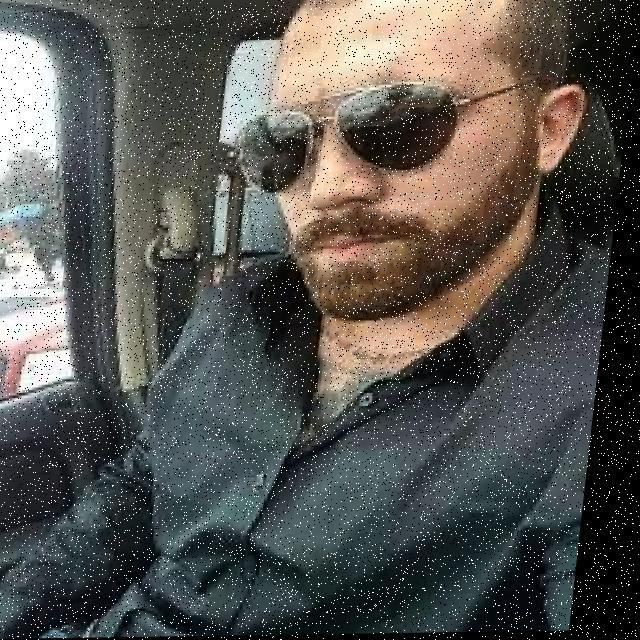noSeatbelt: (114, 279, 615, 638)
